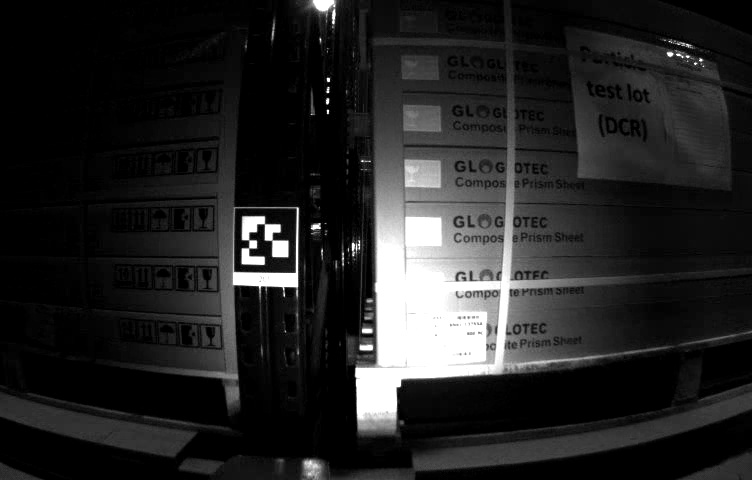True Barcode: (433, 312, 486, 359), (16, 307, 57, 348)
